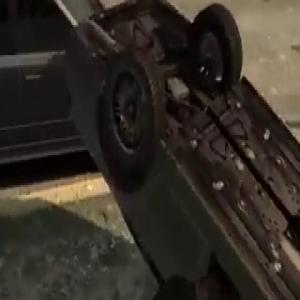severe: (52, 0, 300, 300)
